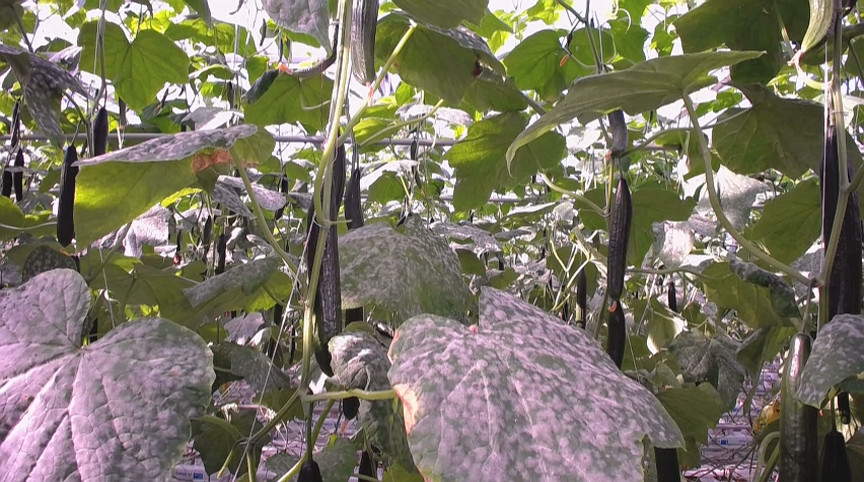cucumber: (780, 335, 821, 481), (308, 197, 340, 380), (605, 178, 627, 299), (348, 1, 376, 88), (800, 1, 845, 55), (57, 144, 78, 246), (610, 303, 626, 367), (91, 107, 110, 159)
